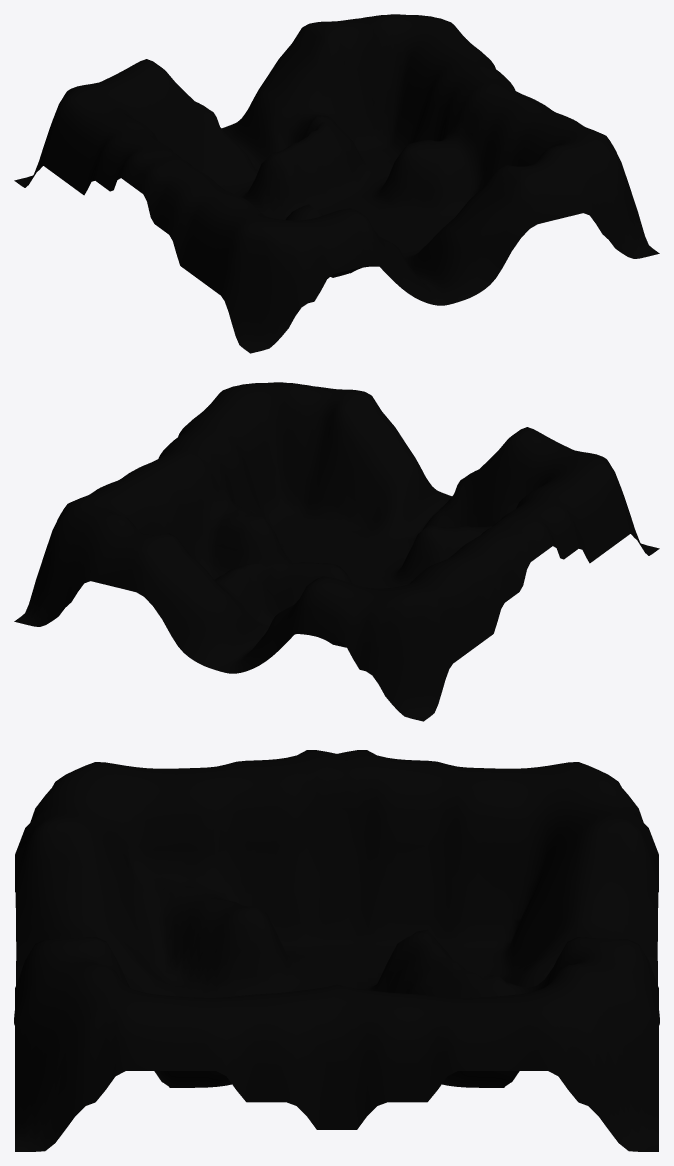
The model's file is Berg.fbx.
The picture shows the model from 3 angles, top to bottom: view 1: azimuth 30°, elevation 25°; view 2: azimuth 150°, elevation 25°; view 3: azimuth 270°, elevation 25°; orthographic projection. The views are drawn at different scales.
Visible parts, largest first — view 1: Bergen; view 2: Bergen; view 3: Bergen.
Part boxes in pixels (x1,y1,x2,y2): Bergen: [14, 14, 659, 353]; Bergen: [14, 382, 659, 721]; Bergen: [14, 750, 659, 1151].
Size of the model in its own units: 36683 by 9038 by 36810.
